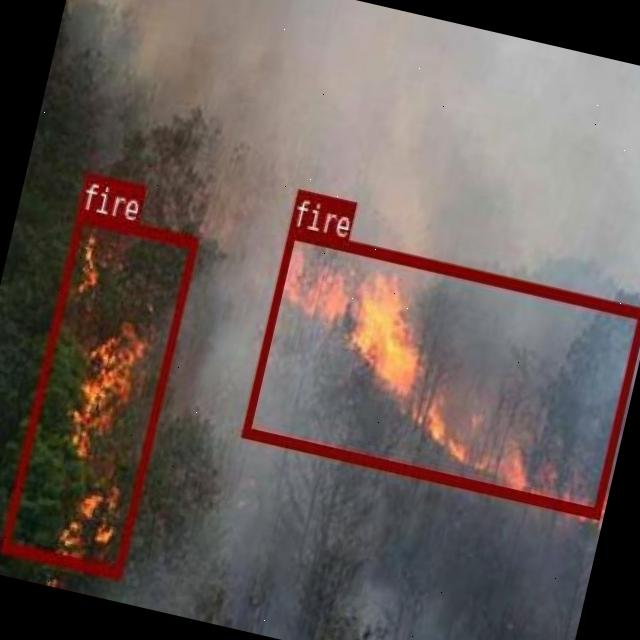fire: (240, 225, 640, 518), (0, 208, 197, 574)
